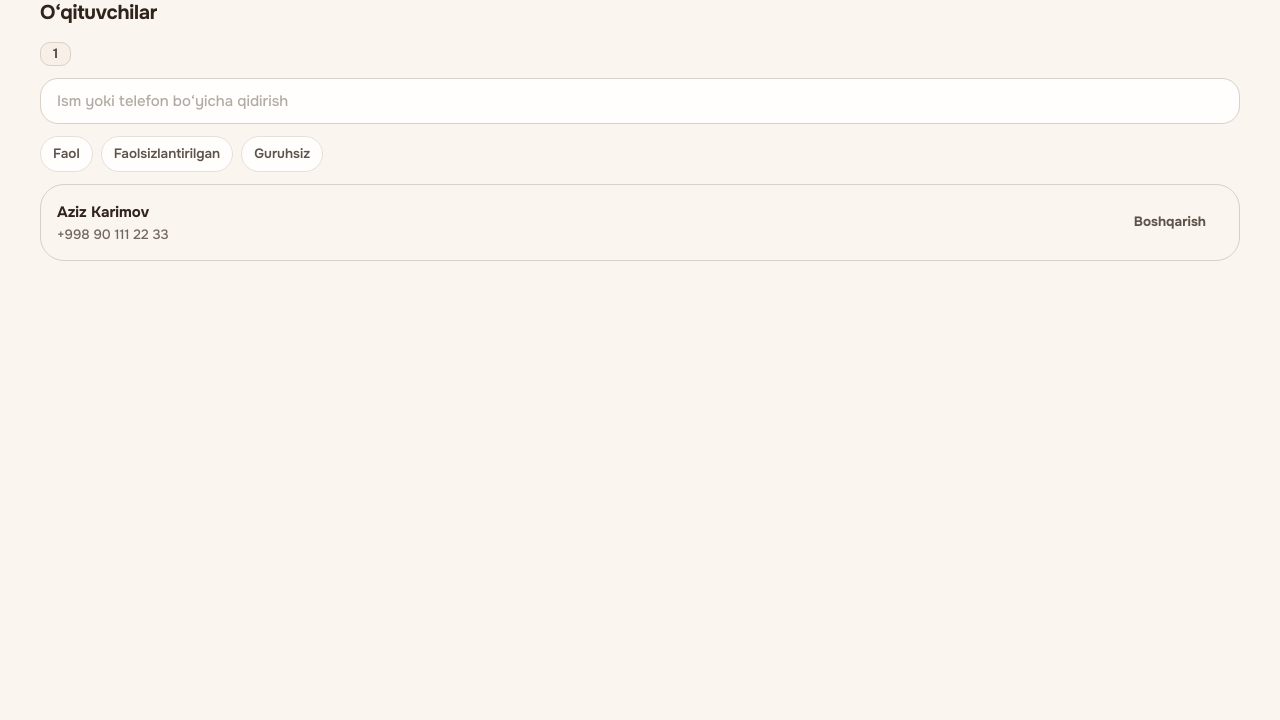
Scenario: Guruhni o'tkazish › a teacher with no groups says so instead of an empty list
Click the button "Boshqarish" at (1170, 222), box [1117,202,1223,242]
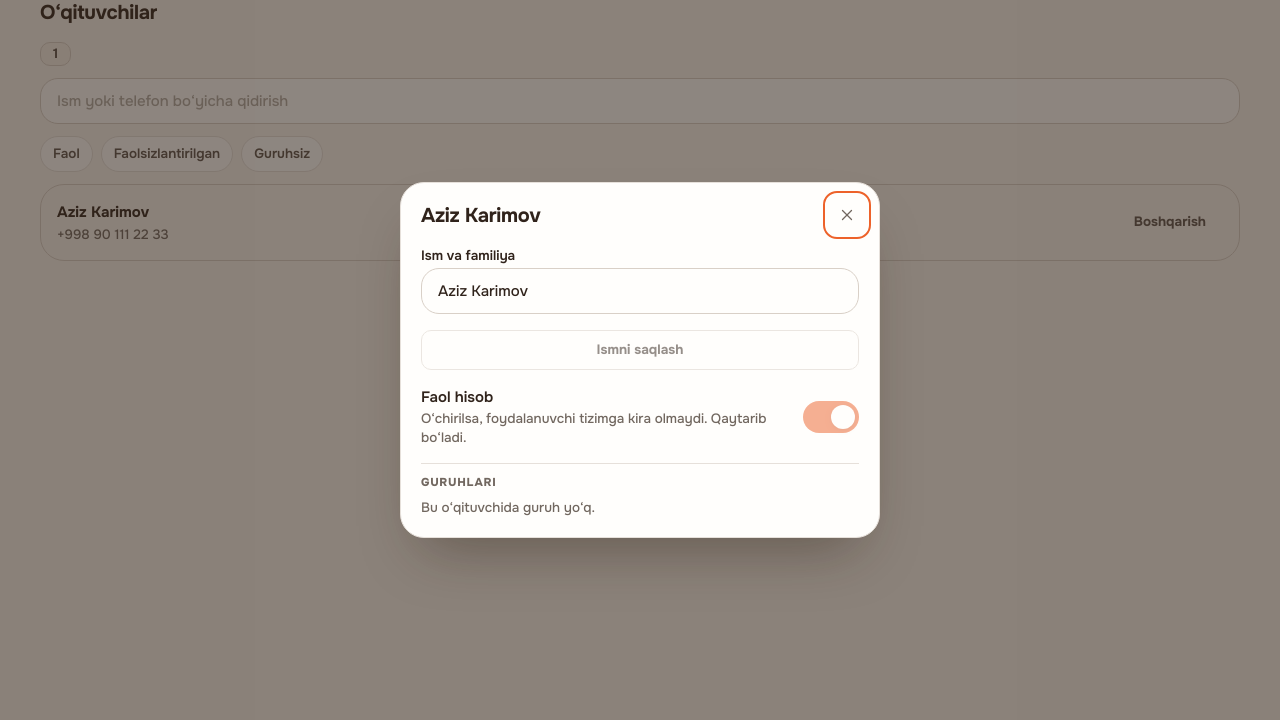
Expected: the text "Bu o‘qituvchida guruh yo‘q." is shown, [421,499,595,516]
